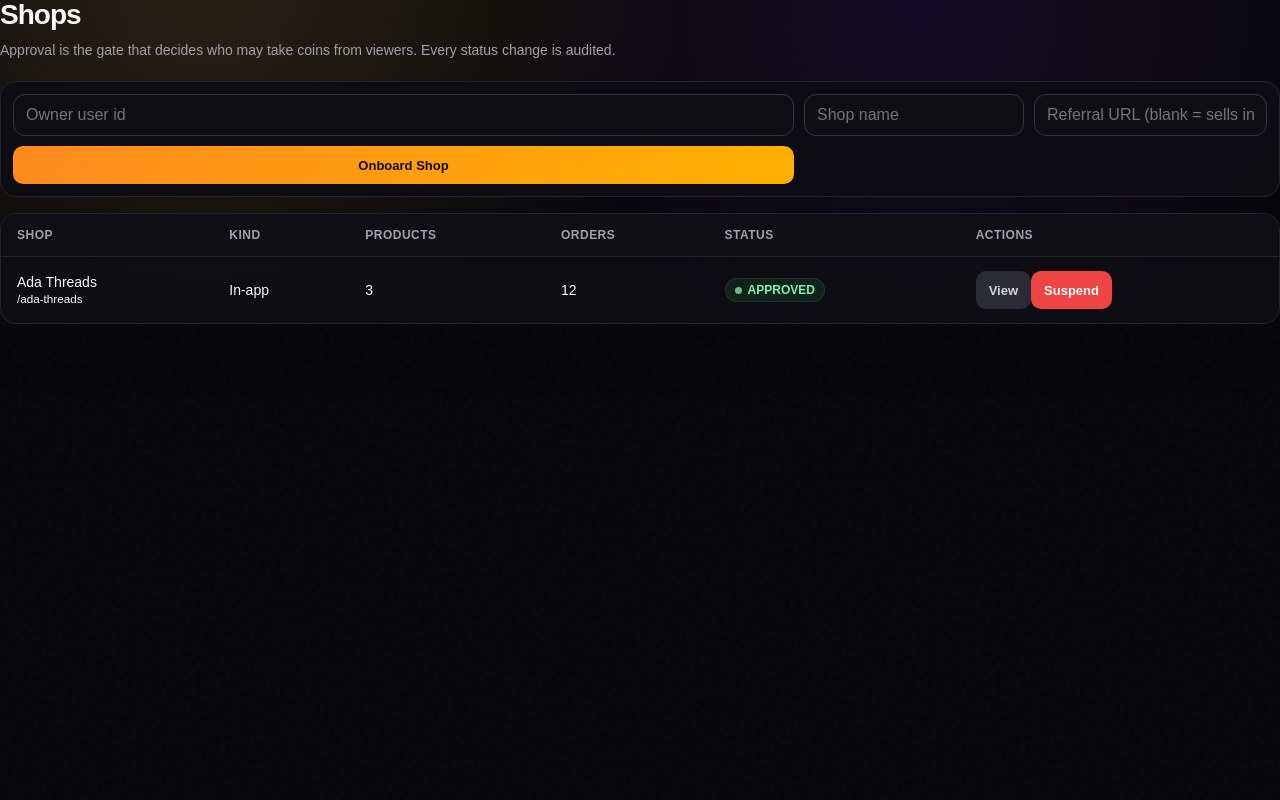
Test: ShopsPage › detail: a referral shop shows where it sends people and how many taps it earned
Expected: the text "Ada Threads" is shown, [17,274,97,290]
Click the button "View" at [1003, 290], box [976,271,1031,309]
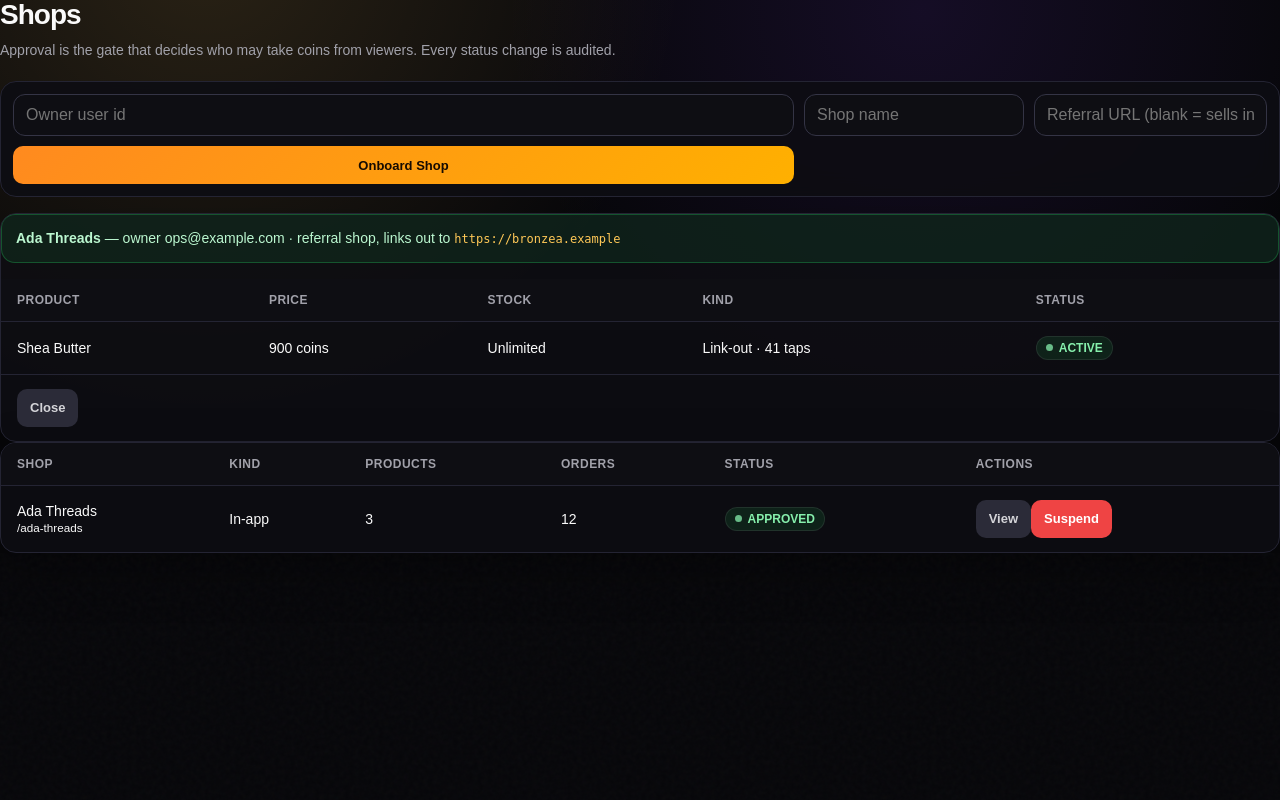
Expected: the text "https://bronzea.example" is shown, [454,232,620,246]
Expected: the text "Link-out · 41 taps" is shown, [686,321,1020,374]
Expected: the text "Unlimited" is shown, [472,321,686,374]
